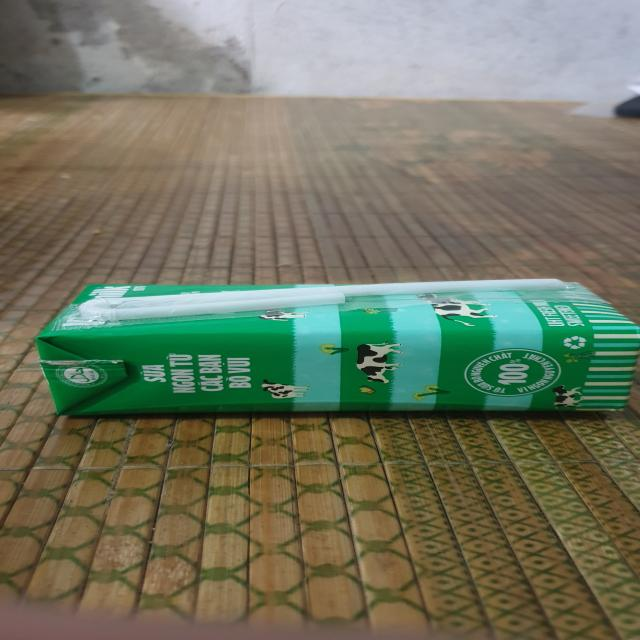Vina: (37, 275, 640, 423)
